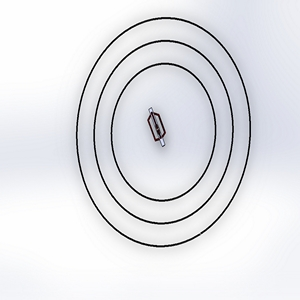circle: (69, 13, 258, 250)
submarine: (139, 99, 174, 155)
